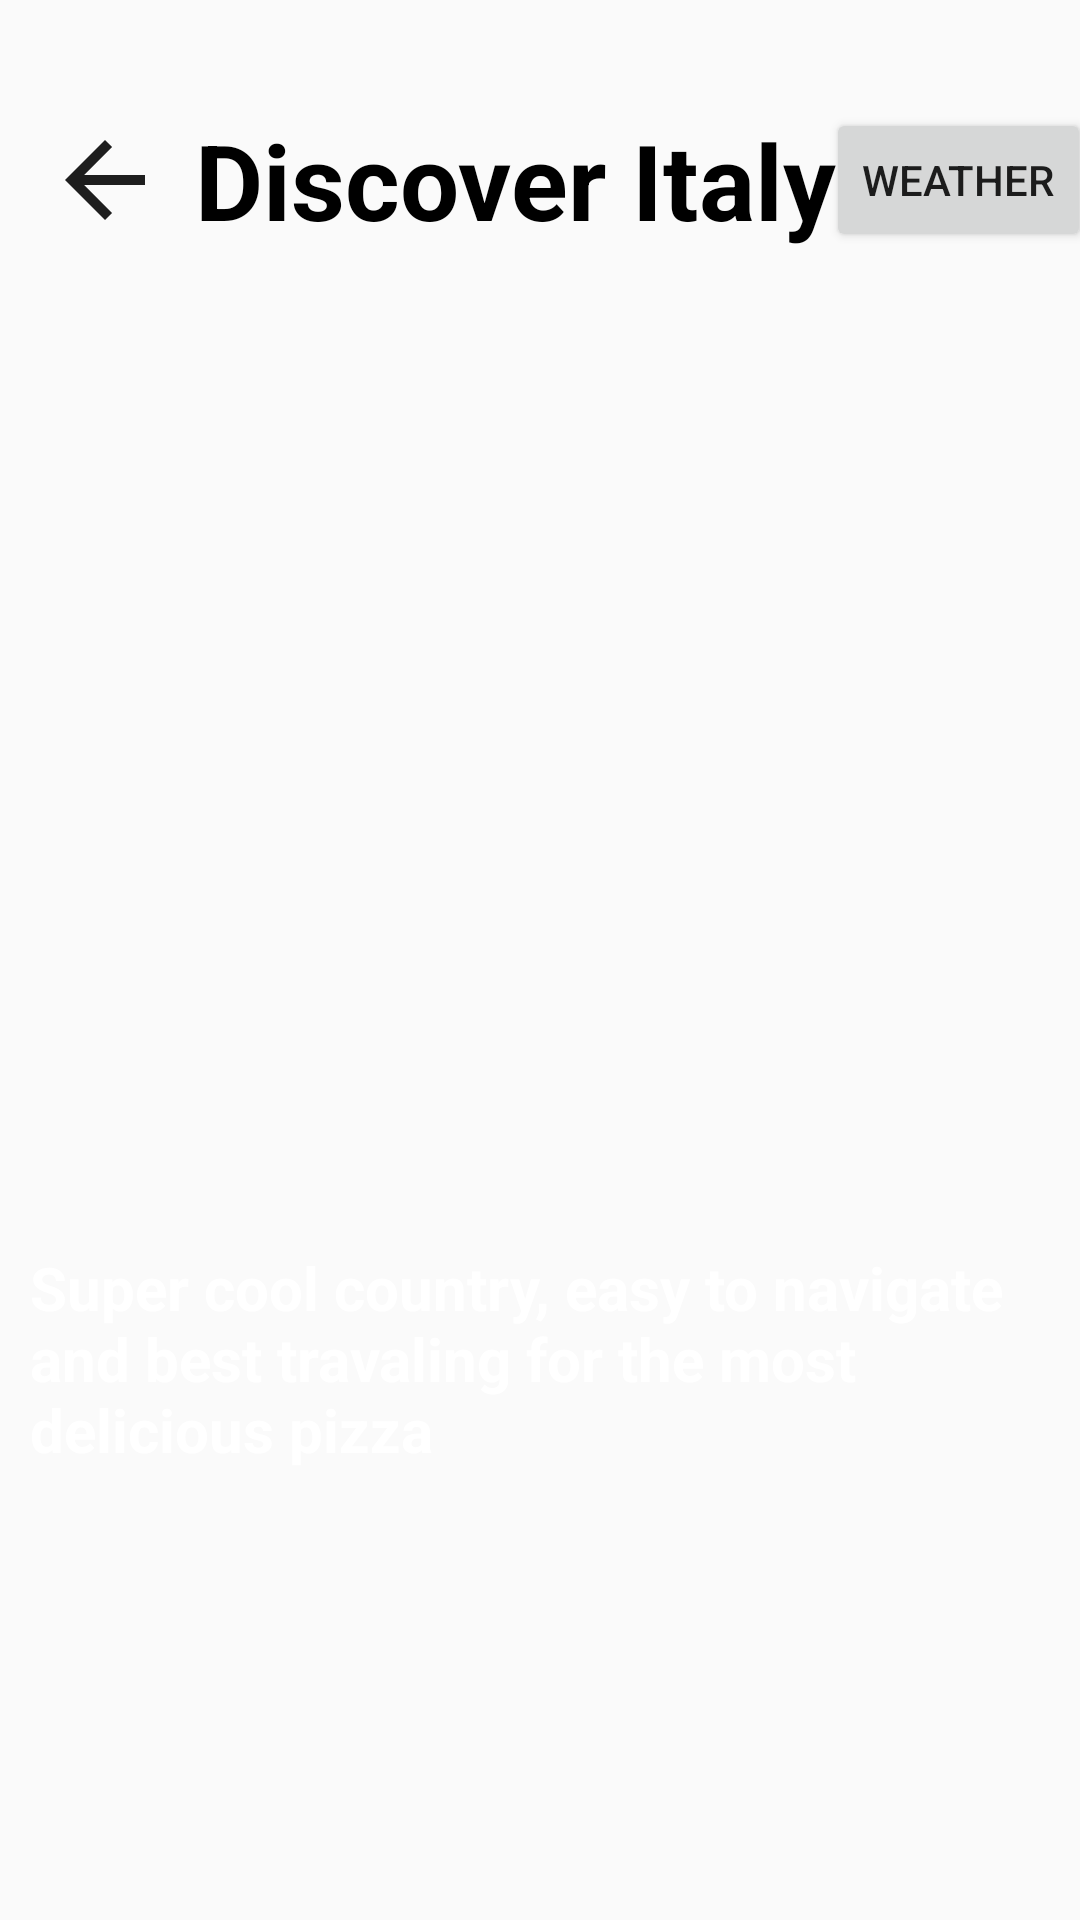

Icon click points for this 1080*1920 phone screenshot, format point (x, y):
arrow back: point (105, 180)
